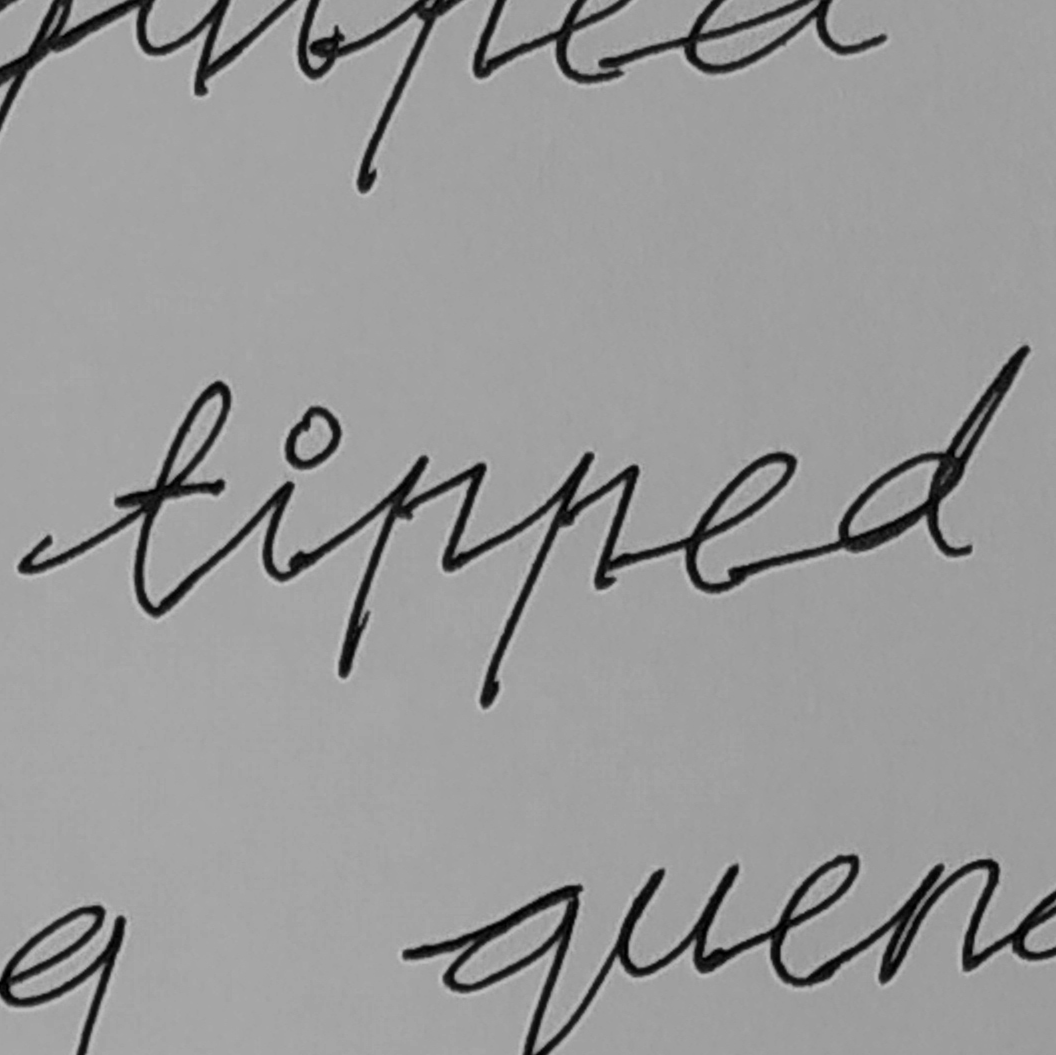d: (832, 339, 1036, 562)
e: (678, 447, 802, 598)
i: (257, 400, 345, 588)
p: (476, 445, 646, 716), (330, 447, 489, 683)
t: (109, 376, 238, 621)
